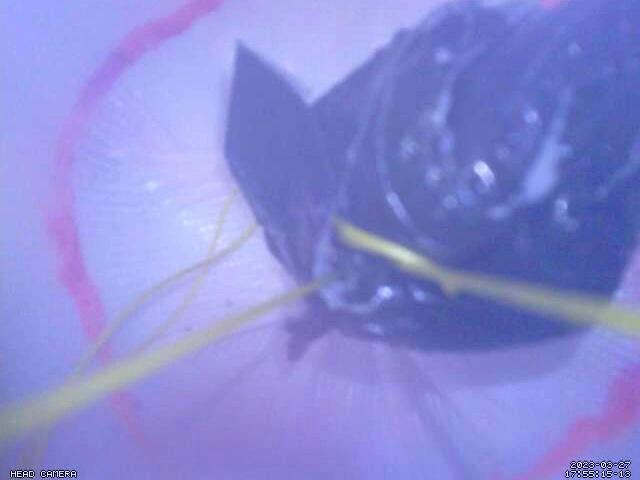head: (43, 0, 640, 480)
